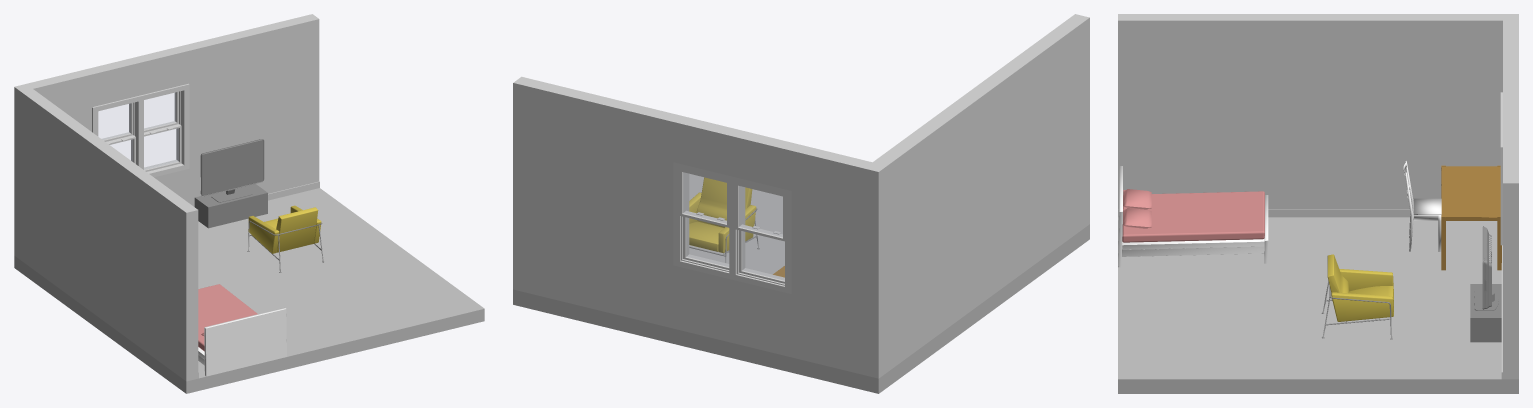
The model's file is L16_W16_furniture3_circulation2.glb.
The picture shows the model from 3 angles, left to right: view 1: azimuth 30°, elevation 25°; view 2: azimuth 150°, elevation 25°; view 3: azimuth 270°, elevation 25°; orthographic projection. The views are drawn at different scales.
Size of the model in its own units: 200 by 116 by 200.
